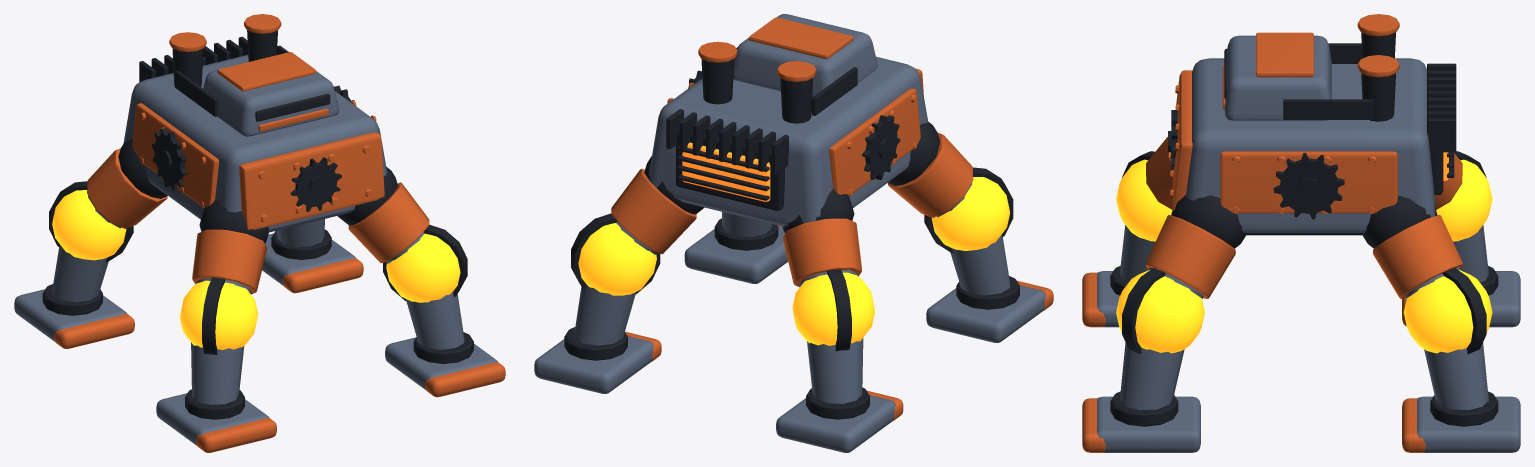
File: colossus_rig.fbx
3 views of the same model, side by side, from view 1: azimuth 30°, elevation 25°; view 2: azimuth 150°, elevation 25°; view 3: azimuth 270°, elevation 25° (orthographic). The views are drawn at different scales.
Visible parts, largest first — view 1: Body, Leg_1_Lower, Leg_2_Lower, Leg_3_Lower, Leg_1_Upper, Leg_2_Upper, Leg_4_Lower, Leg_3_Upper, Joint_2, Joint_1, Joint_3; view 2: Body, Leg_3_Lower, Leg_4_Lower, Leg_1_Lower, Leg_3_Upper, Leg_1_Upper, Leg_4_Upper, Leg_2_Lower, Joint_4, Joint_3, Joint_1, Core; view 3: Body, Leg_2_Lower, Leg_4_Lower, Leg_2_Upper, Leg_4_Upper, Joint_4, Joint_2, Leg_1_Lower, Leg_3_Lower, Joint_3, Joint_1, Leg_1_Upper (+1 smaller).
Part boxes in pixels (left/top/right/bottom): Body: left=123, top=14, right=387, bottom=232; Leg_1_Lower: left=156, top=342, right=276, bottom=452; Leg_2_Lower: left=385, top=292, right=505, bottom=397; Leg_3_Lower: left=14, top=245, right=134, bottom=348; Leg_1_Upper: left=192, top=200, right=268, bottom=355; Leg_2_Upper: left=337, top=167, right=467, bottom=300; Leg_4_Lower: left=262, top=219, right=363, bottom=293; Leg_3_Upper: left=49, top=139, right=167, bottom=262; Joint_2: left=386, top=233, right=460, bottom=302; Joint_1: left=180, top=280, right=257, bottom=349; Joint_3: left=52, top=190, right=126, bottom=260; Body: left=649, top=14, right=928, bottom=226; Leg_3_Lower: left=776, top=338, right=903, bottom=452; Leg_4_Lower: left=534, top=284, right=661, bottom=393; Leg_1_Lower: left=926, top=235, right=1053, bottom=342; Leg_3_Upper: left=782, top=188, right=861, bottom=351; Leg_1_Upper: left=888, top=122, right=1013, bottom=253; Leg_4_Upper: left=571, top=156, right=704, bottom=294; Leg_2_Lower: left=684, top=212, right=787, bottom=283; Joint_4: left=578, top=223, right=656, bottom=295; Joint_3: left=792, top=272, right=874, bottom=345; Joint_1: left=931, top=177, right=1009, bottom=250; Core: left=682, top=142, right=770, bottom=201; Body: left=1168, top=14, right=1456, bottom=235; Leg_2_Lower: left=1082, top=342, right=1200, bottom=452; Leg_4_Lower: left=1402, top=343, right=1520, bottom=452; Leg_2_Upper: left=1122, top=195, right=1246, bottom=354; Leg_4_Upper: left=1362, top=195, right=1486, bottom=354; Joint_4: left=1403, top=270, right=1492, bottom=353; Joint_2: left=1116, top=270, right=1204, bottom=353; Leg_1_Lower: left=1082, top=225, right=1155, bottom=327; Leg_3_Lower: left=1402, top=225, right=1520, bottom=327; Joint_3: left=1436, top=159, right=1492, bottom=241; Joint_1: left=1116, top=159, right=1172, bottom=241; Leg_1_Upper: left=1122, top=137, right=1172, bottom=209.
Bounding box in the file's own units: 24.3 × 22.55 × 27.15.
6 materials, 1 textured.
